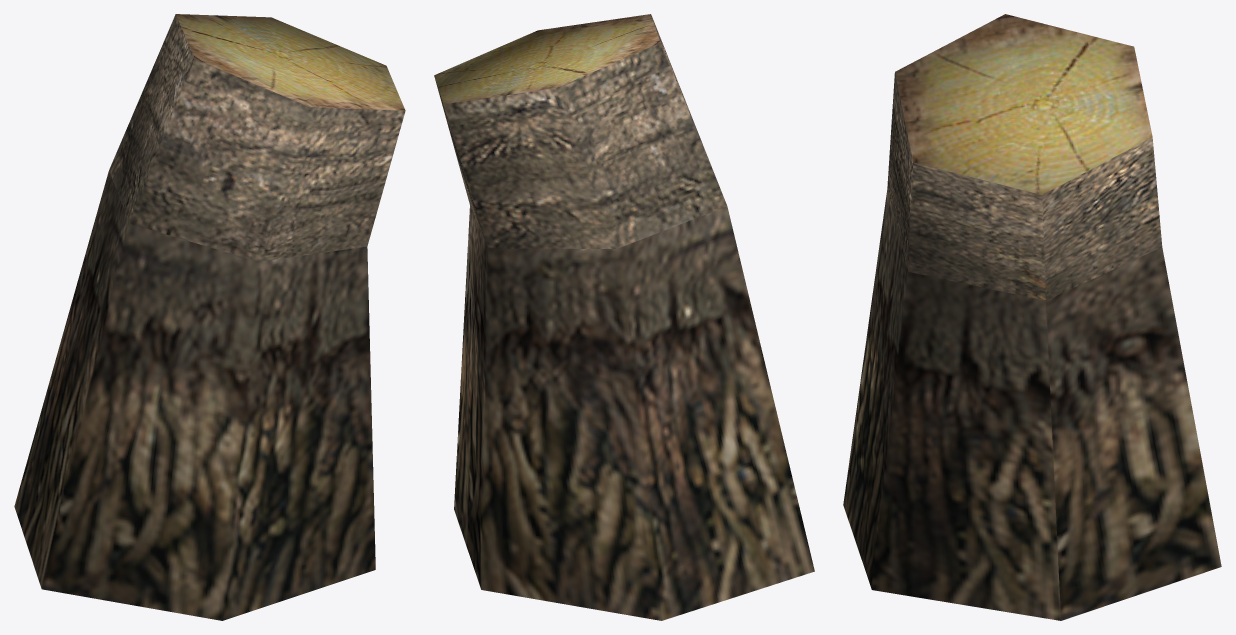
File: fracturePiece0.fbx
3 views of the same model, side by side, from view 1: azimuth 30°, elevation 25°; view 2: azimuth 150°, elevation 25°; view 3: azimuth 270°, elevation 25° (orthographic). The views are drawn at different scales.
Visible parts, largest first — view 1: fracturePiece0; view 2: fracturePiece0; view 3: fracturePiece0.
Part boxes in pixels (bbox=[...]): fracturePiece0: bbox=[14, 14, 405, 620]; fracturePiece0: bbox=[434, 14, 814, 620]; fracturePiece0: bbox=[843, 14, 1221, 620].
Size of the model in its own units: 188 by 244 by 162.
